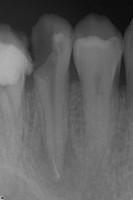Furcation Involvement: (35, 130, 79, 192)
